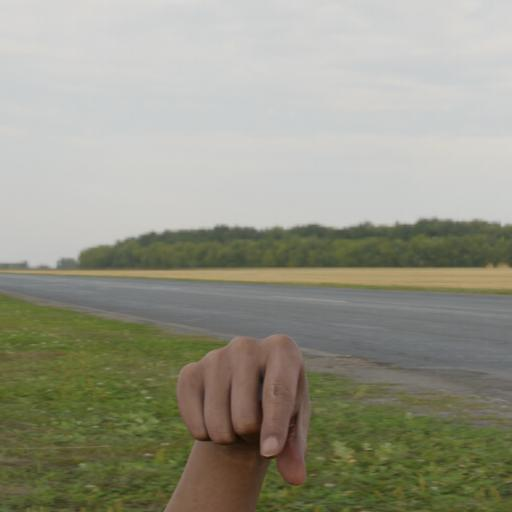Q: (144, 312, 326, 491)
